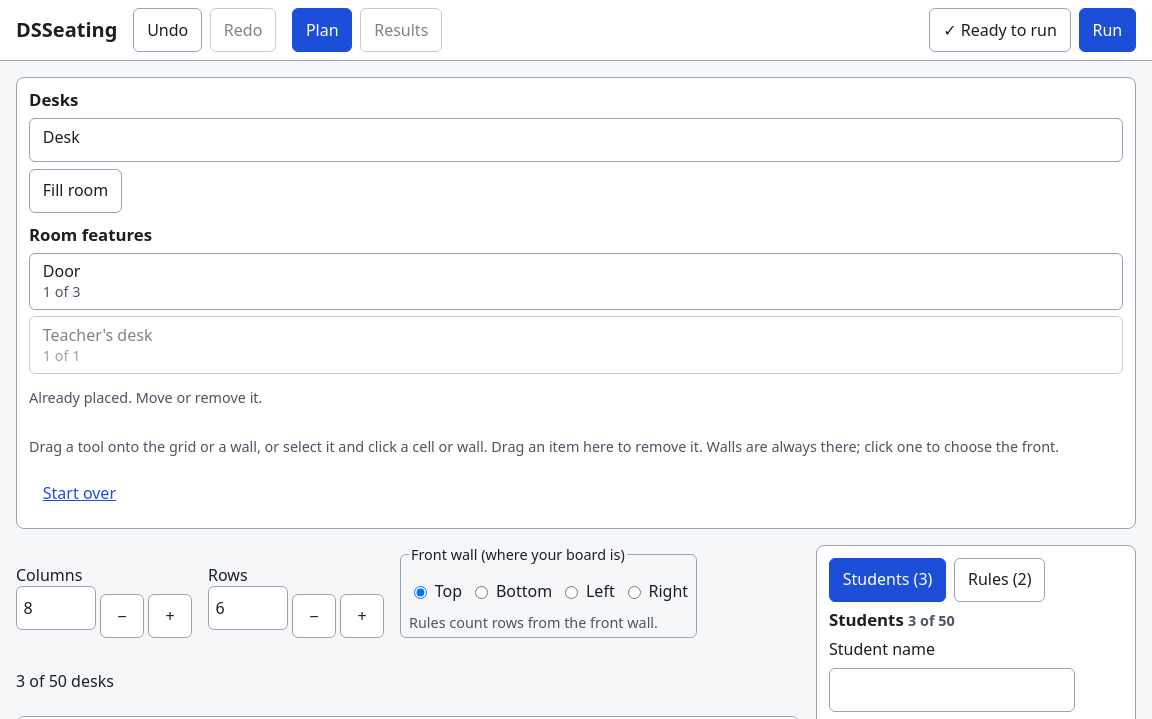
Scenario: Run › shows the busy variant with Try again and keeps the input
What coordinates should you click on to do the following:
click the button "Run"
I would click on:
 (1107, 30)
Its box is [1079,8,1136,52].
(page scrolled)
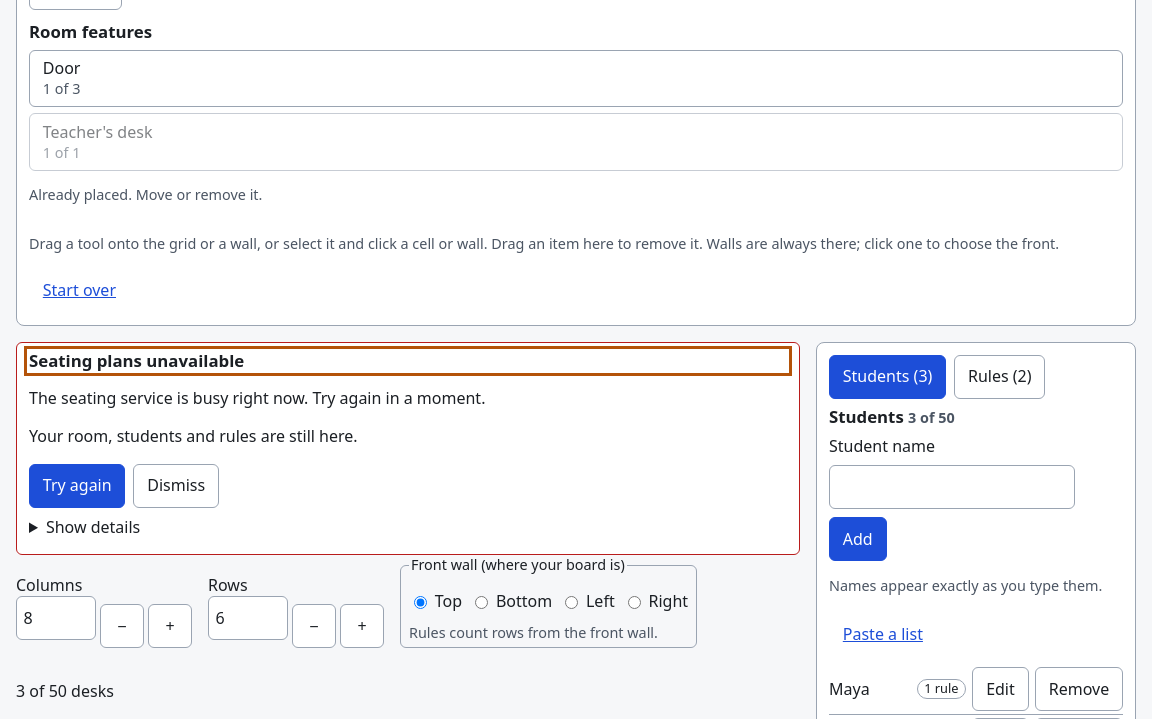
Expected: the text "Maya" is shown, [829,678,870,700]
Expected: the text "The seating service is busy right now. Try again in a moment." is shown, [29,387,485,409]
Expected: the button "Try again" is shown, [29,464,125,508]
